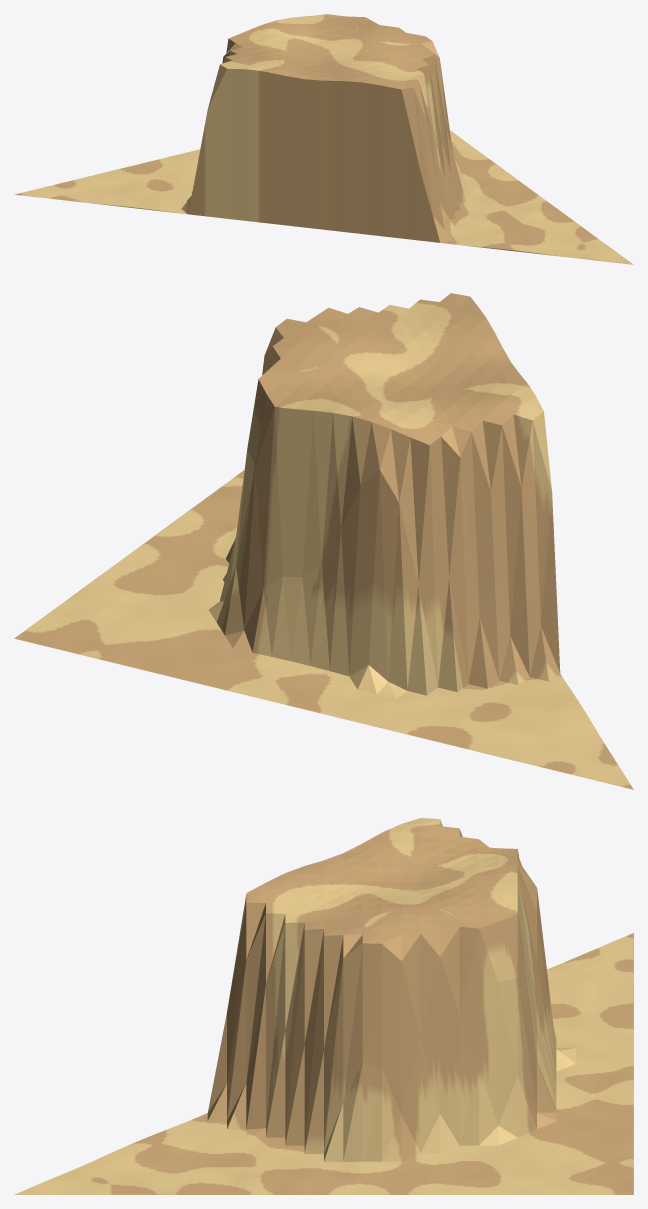
Rendered from Desert_Mountains_04_SE.obj.
3 renders of one model, top to bottom at view 1: azimuth 30°, elevation 25°; view 2: azimuth 150°, elevation 25°; view 3: azimuth 270°, elevation 25°, orthographic. The views are drawn at different scales.
Bounding box in the file's own units: 10 × 3.7 × 10.
1 material, 1 textured.
